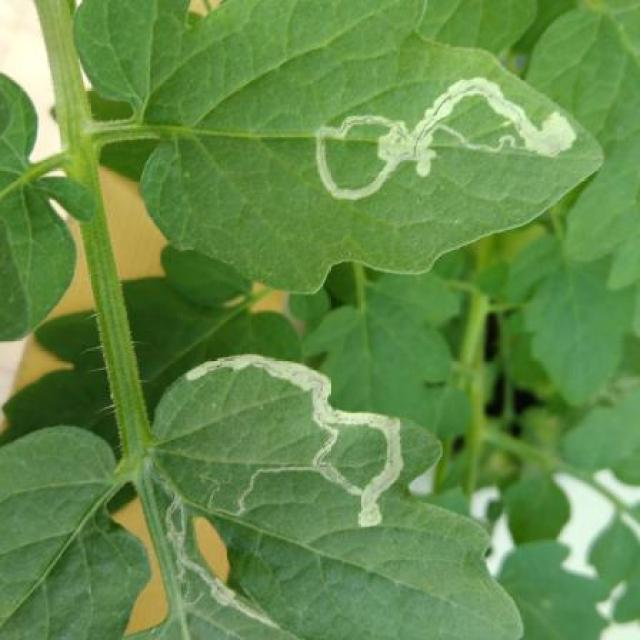Leaf Miner: (72, 0, 607, 294), (150, 348, 523, 639)
